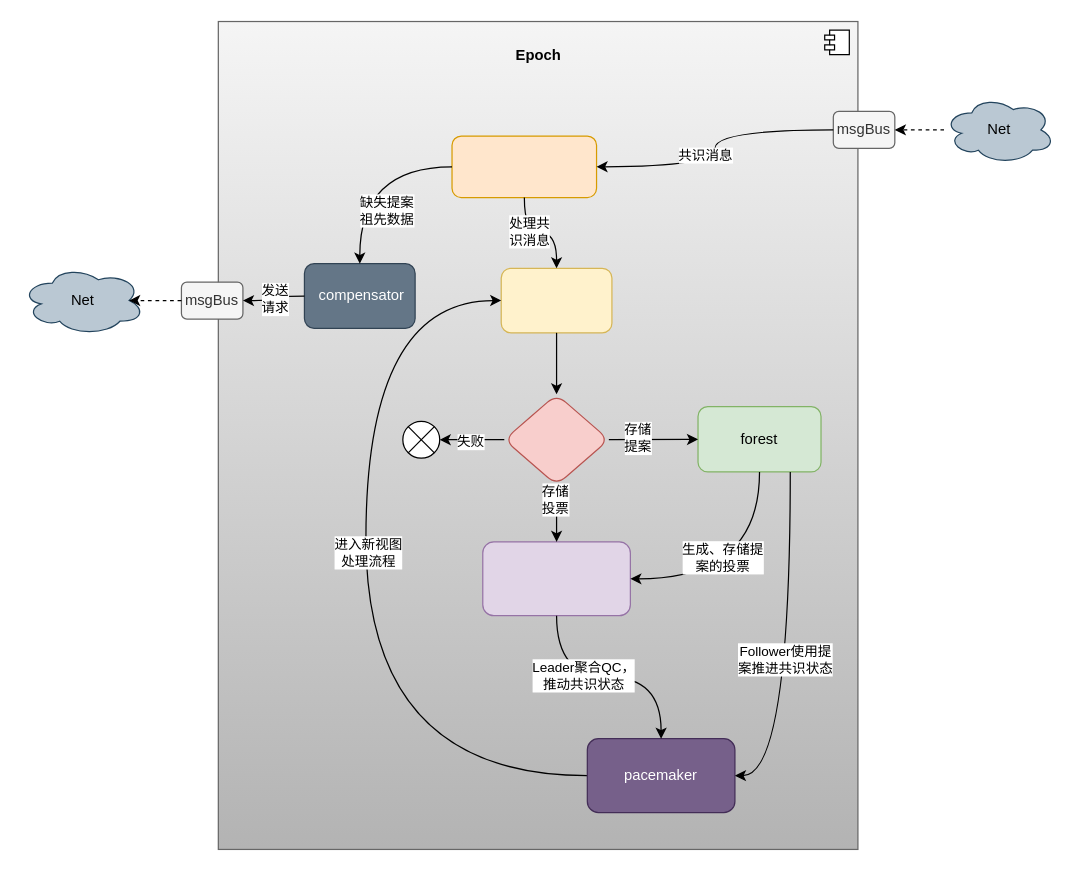
This 1076x872 diagram has some shape labels left out. The shapes that lost their labels are listed below. From the top down, each one's box as (x1, y1, x2, y2) in pixels, then its label:
(451, 135, 597, 198): msgcache
(500, 267, 612, 333): engine
(503, 393, 609, 485): verifier
(482, 541, 630, 616): voter
